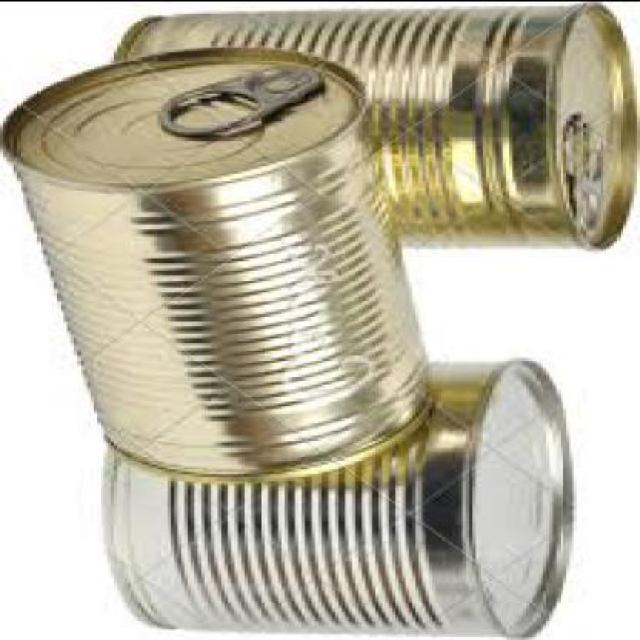METAL: (3, 48, 443, 486), (117, 1, 638, 252), (103, 362, 574, 638), (164, 67, 331, 142), (567, 122, 616, 236)
